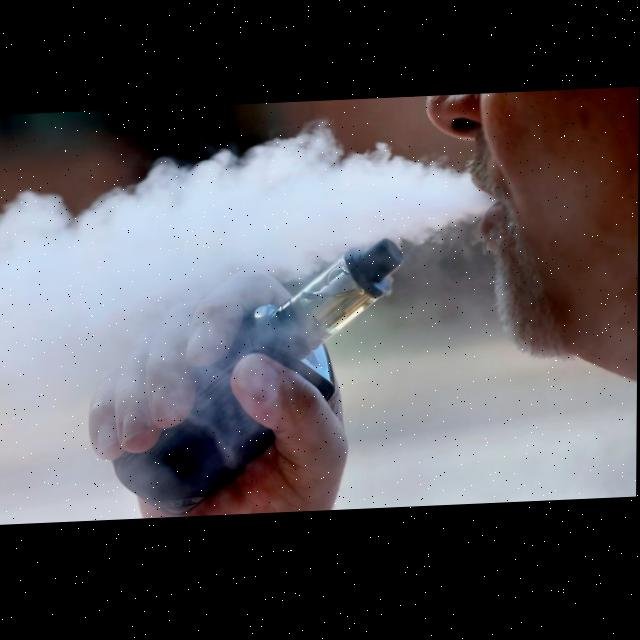vape: (112, 240, 406, 522)
